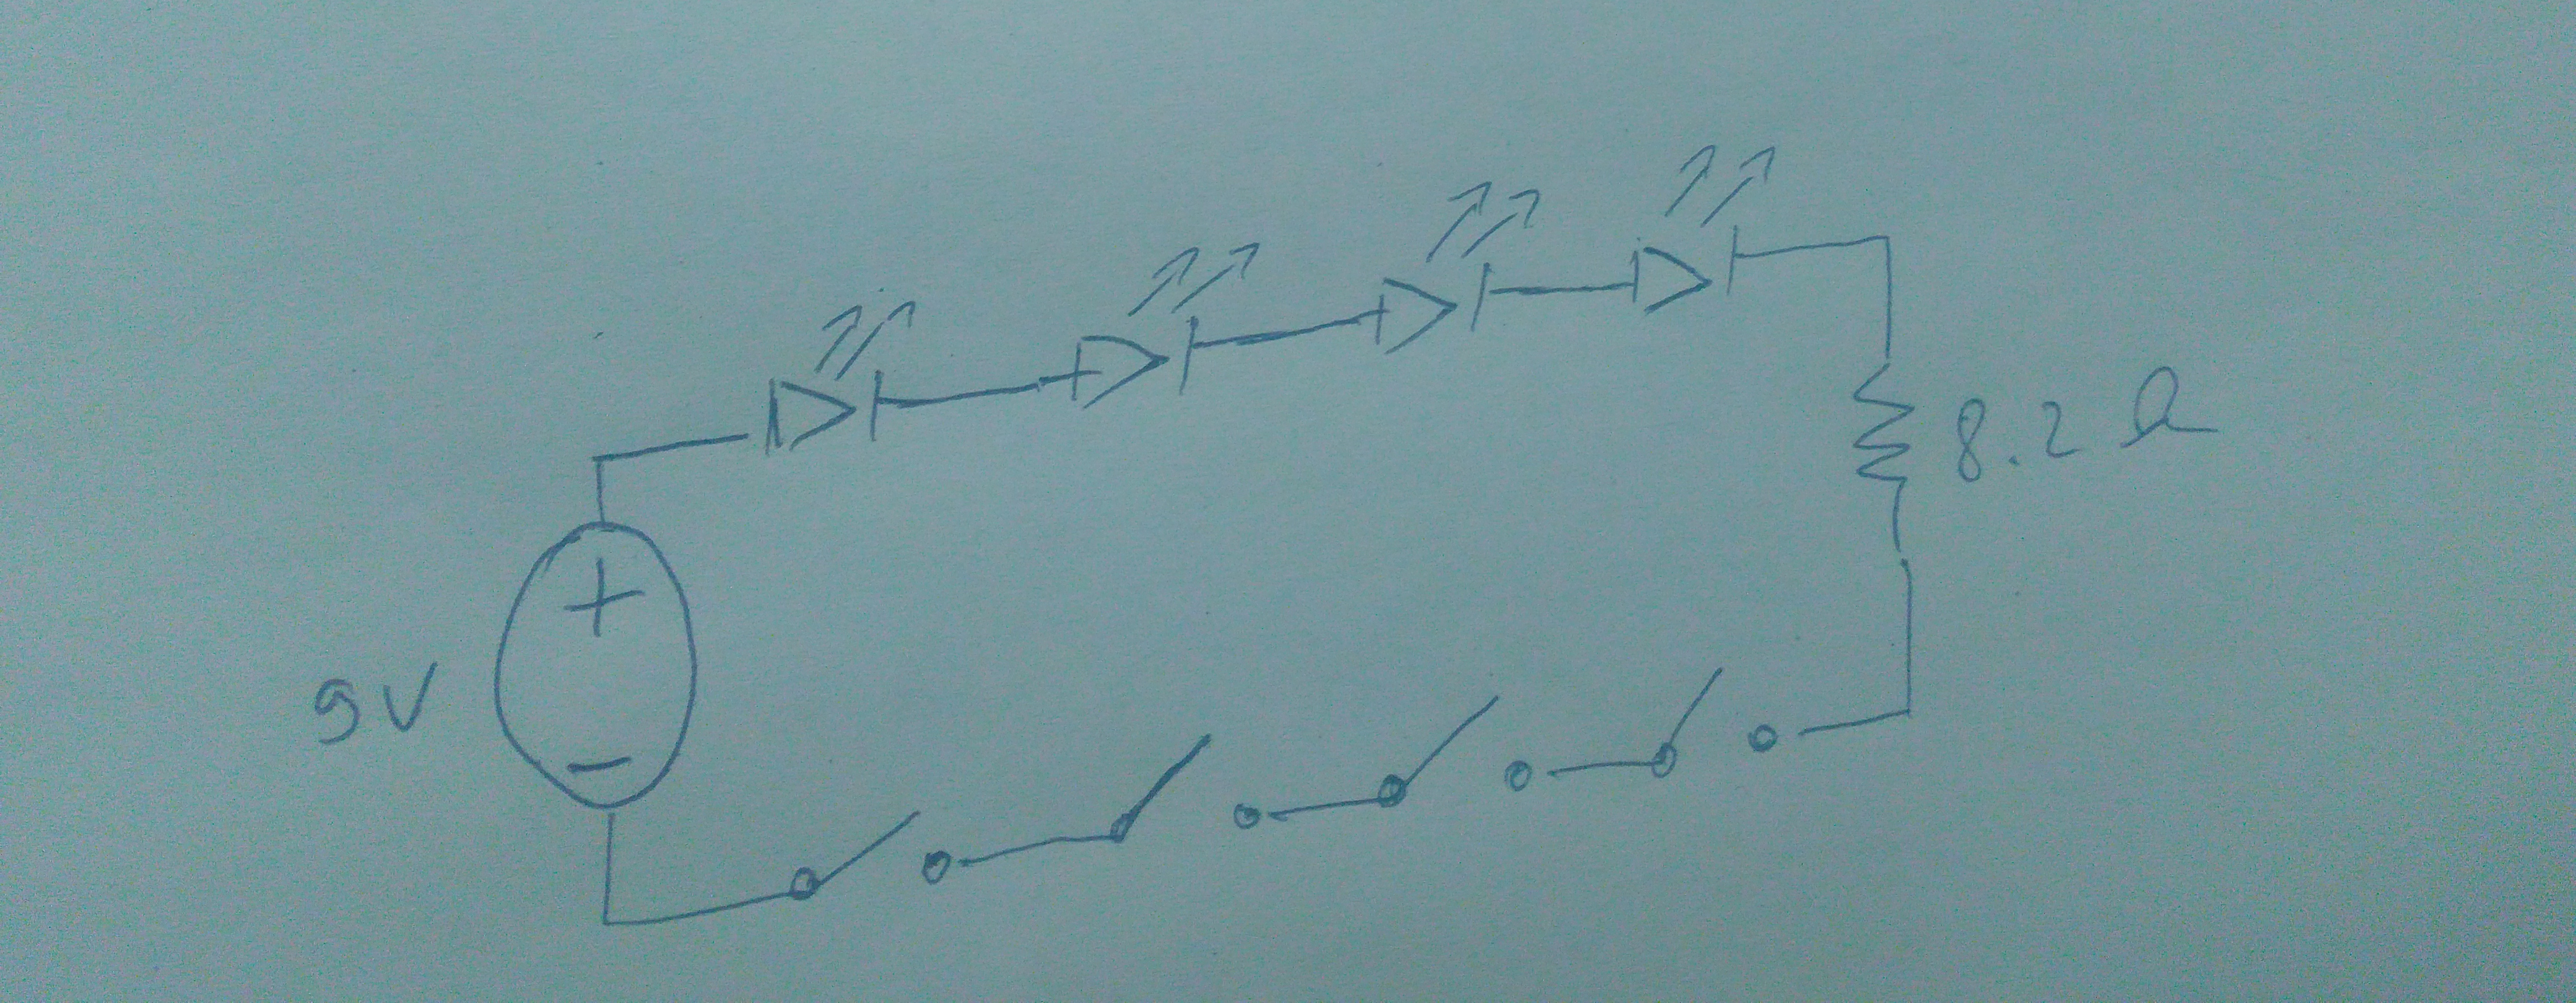diode.light_emitting: (1050, 222, 1276, 423), (1337, 168, 1551, 373), (728, 273, 941, 475), (1594, 133, 1805, 334)
junction: (578, 891, 644, 942), (1881, 691, 1939, 737), (1860, 219, 1904, 273), (570, 446, 629, 485)
resistor: (1830, 342, 1945, 548)
switch: (754, 781, 984, 914), (1630, 649, 1824, 794), (1365, 679, 1556, 825), (1099, 714, 1280, 860)
text: (1950, 358, 2239, 498), (289, 645, 450, 760)
voltage.dc: (470, 503, 726, 830)
